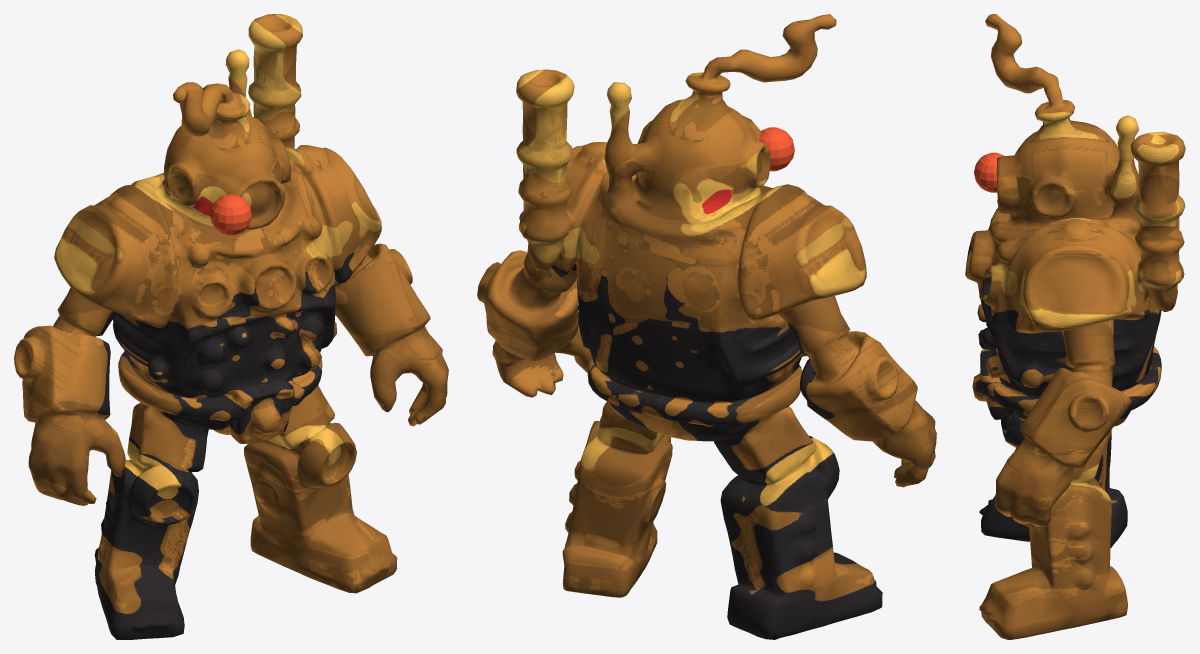
The model's file is sentinel_v8.glb.
3 renders of one model, left to right at view 1: azimuth 30°, elevation 25°; view 2: azimuth 150°, elevation 25°; view 3: azimuth 270°, elevation 25°, orthographic. The views are drawn at different scales.
Visible parts, largest first — view 1: Body, Eye; view 2: Body, Eye; view 3: Body, Eye.
Boxes of the visible parts, x1,y1,x2,y2 form: Body: (14, 14, 448, 639); Eye: (210, 194, 251, 235); Body: (477, 14, 936, 639); Eye: (759, 127, 794, 171); Body: (965, 14, 1185, 639); Eye: (974, 152, 1004, 192).
Bounding box in the file's own units: 1.59 × 1.99 × 0.7637.
Materials: 2 (1 with a texture image).
